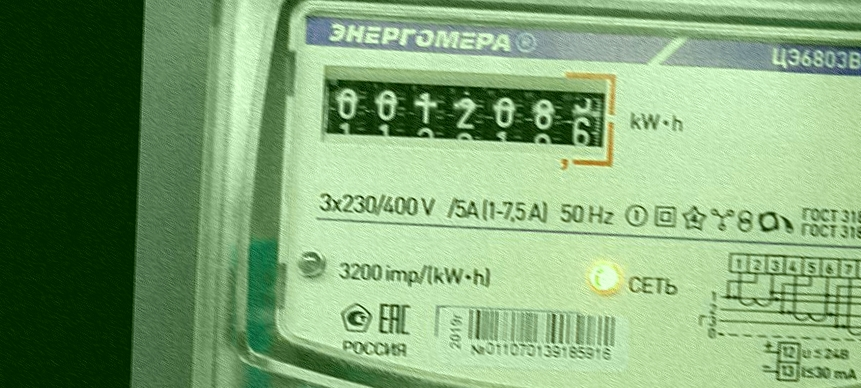0: (490, 93, 516, 129), (373, 85, 397, 123), (335, 84, 356, 121)
1: (414, 89, 432, 126)
2: (451, 95, 478, 131)
6: (567, 112, 591, 148)
8: (529, 96, 553, 133)
screen: (308, 53, 624, 182)
